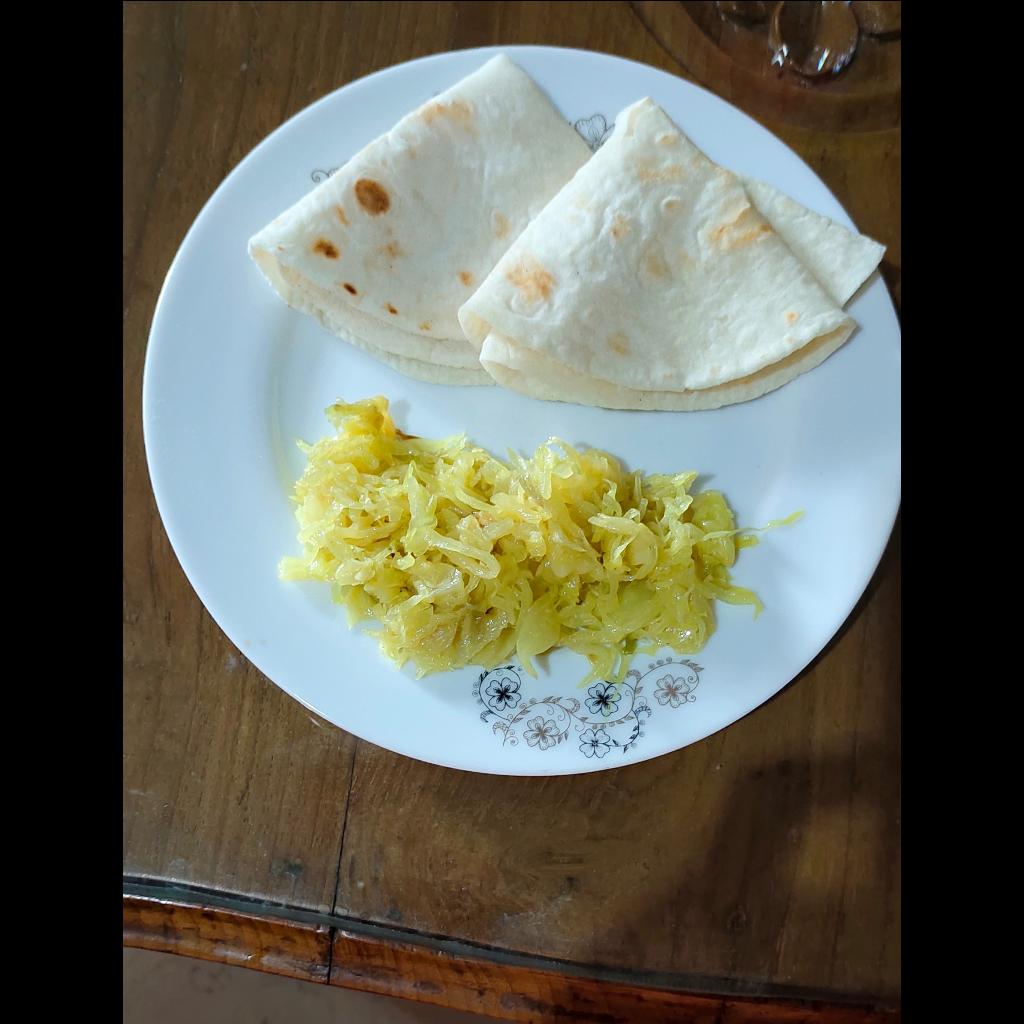cabbage: (278, 388, 766, 687)
ruti: (244, 48, 890, 410)
